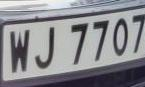0: (110, 16, 133, 61)
7: (64, 19, 92, 67), (90, 16, 113, 63), (130, 11, 145, 54)
J: (32, 23, 60, 74)
W: (8, 23, 33, 81)
